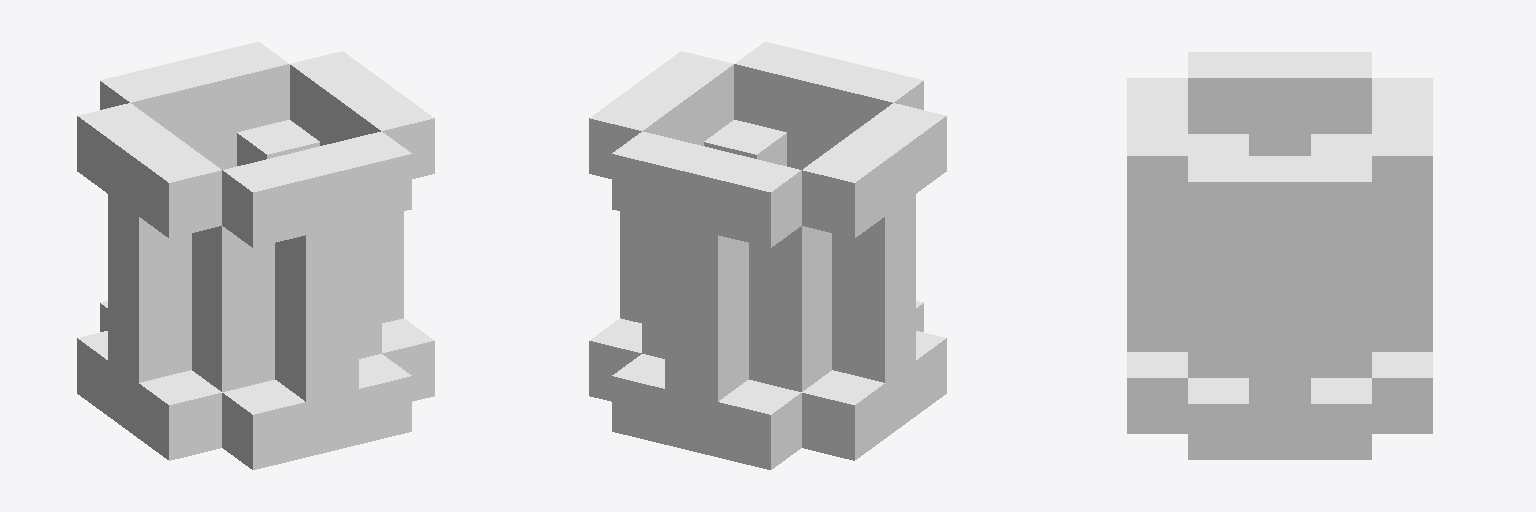
Rendered from pomoika.obj.
3 renders of one model, left to right at view 1: azimuth 30°, elevation 25°; view 2: azimuth 150°, elevation 25°; view 3: azimuth 270°, elevation 25°, orthographic.
Parts seen in each view (by area): view 1: object 1; view 2: object 1; view 3: object 1.
Part boxes in pixels (x1,y1,x2,y2): object 1: (77,42,434,469); object 1: (589,42,946,469); object 1: (1127,52,1432,459).
Size of the model in its own units: 0.5 by 0.5 by 0.5.